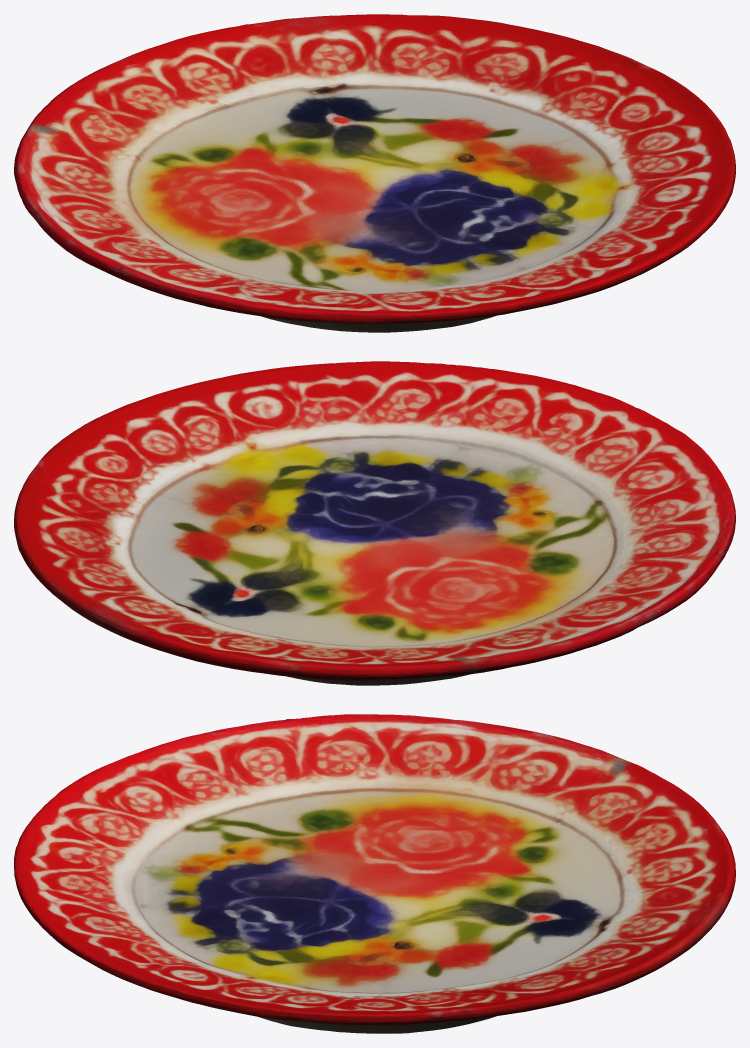
Rendered from red_pottery_plate.glb.
3 renders of one model, top to bottom at view 1: azimuth 30°, elevation 25°; view 2: azimuth 150°, elevation 25°; view 3: azimuth 270°, elevation 25°, orthographic.
Parts seen in each view (by area): view 1: world; view 2: world; view 3: world.
Part boxes in pixels (x1,y1,x2,y2): world: (14, 14, 735, 332); world: (14, 361, 735, 685); world: (14, 714, 735, 1033).
Bounding box in the file's own units: 0.9938 × 0.1367 × 0.9999.
Materials: 1 (1 with a texture image).
